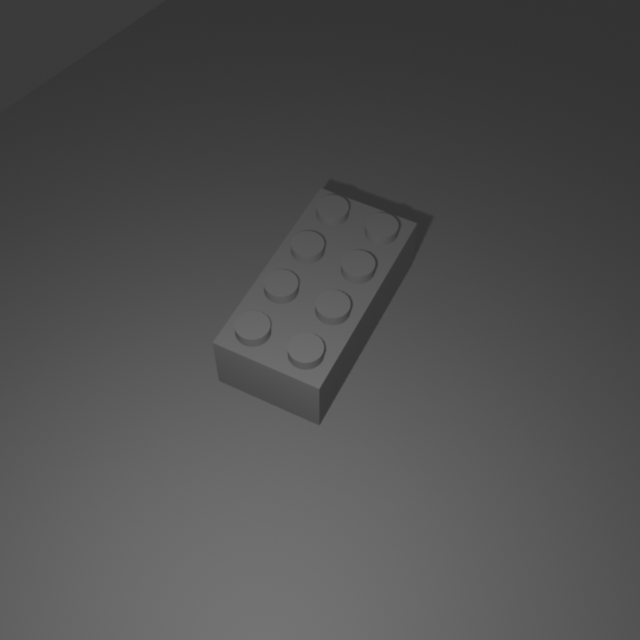lego_2x4: (211, 180, 418, 425)
